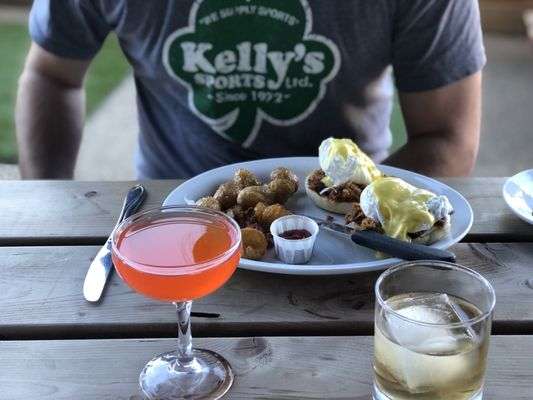salad: (83, 183, 147, 303), (350, 230, 458, 263)
